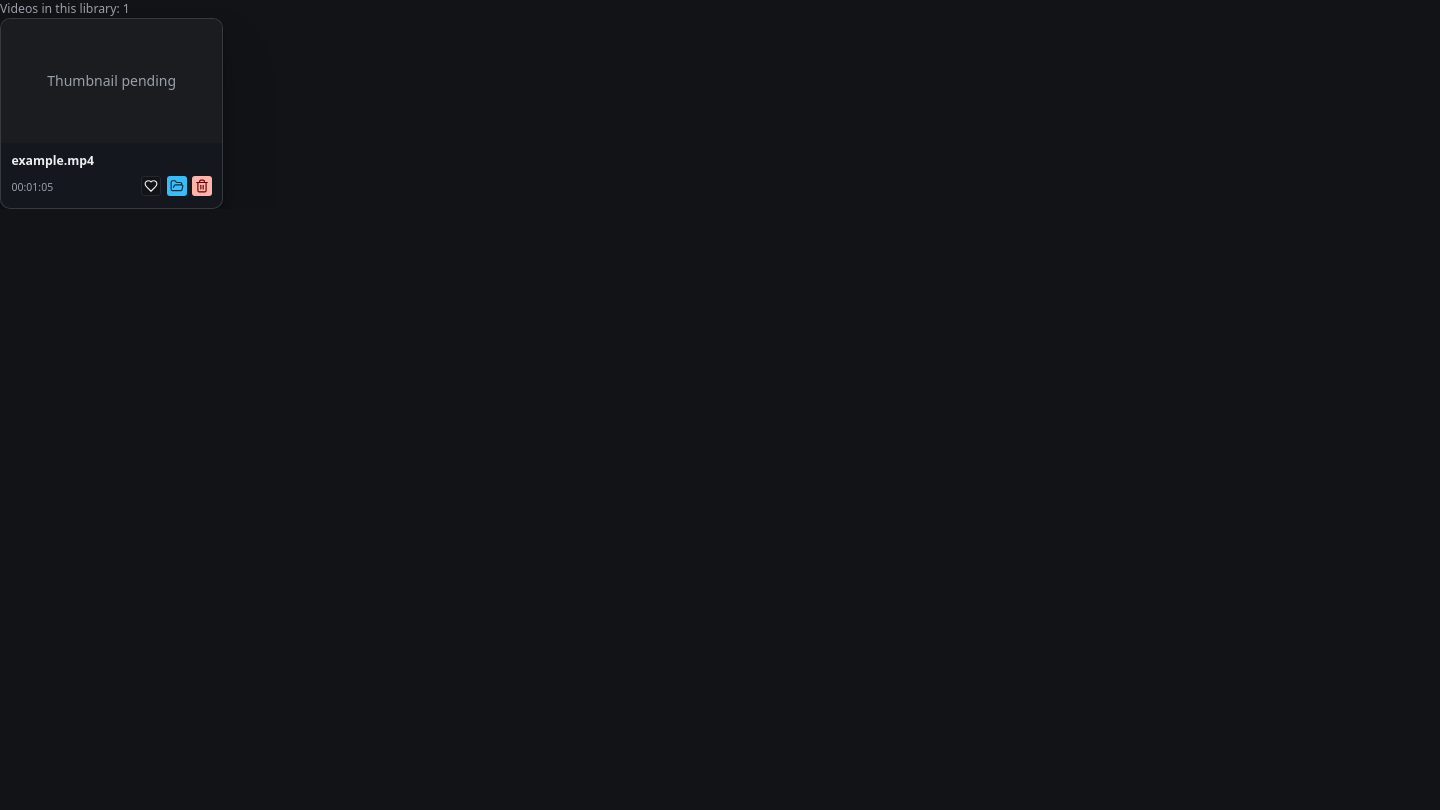
draws the fields the plugins wrote for the video that is open
The width and height of the screenshot is (1440, 810).
Click the button "example.mp4": click(112, 162) [12,154,212,170]
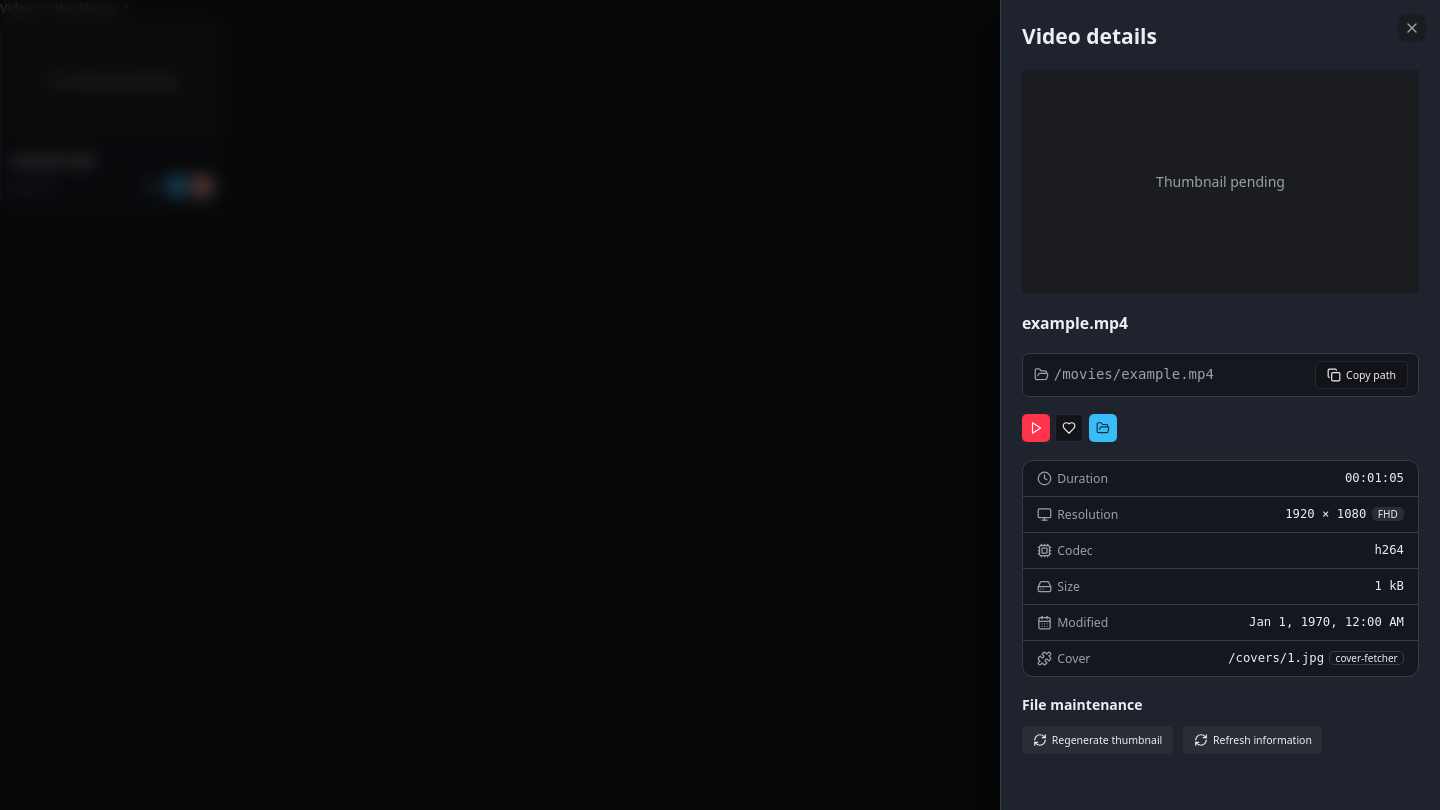
Check: the element showing "/covers/1.jpg cover-fetcher" is shown, box [1228,650,1404,667]
